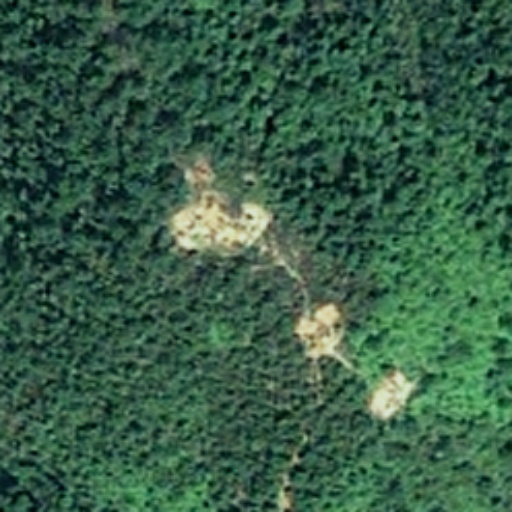landslide: (176, 185, 273, 248), (292, 302, 348, 356), (370, 365, 413, 421)
